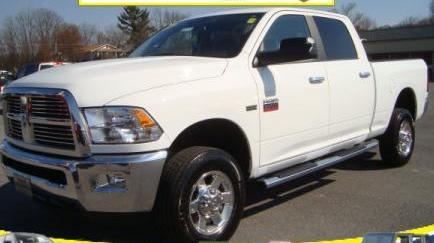front_view: (4, 64, 189, 214)
headlight: (72, 99, 170, 151)
side_glass: (239, 8, 359, 64)
